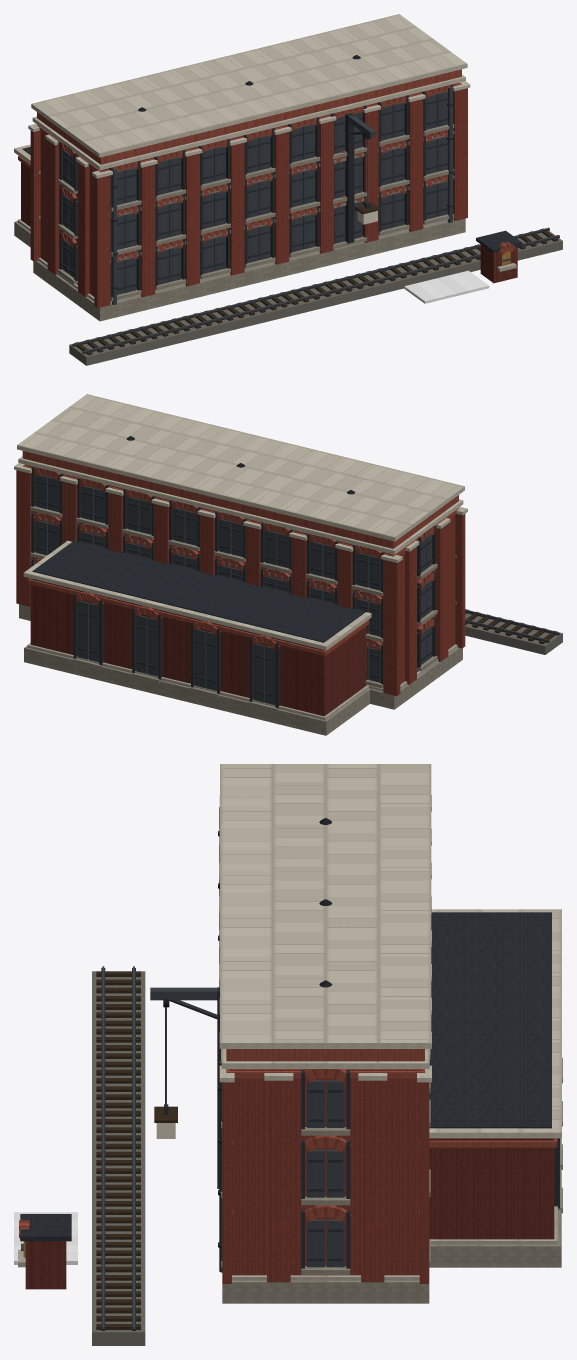
Rendered from fun-2-built.glb.
3 renders of one model, top to bottom at view 1: azimuth 30°, elevation 25°; view 2: azimuth 150°, elevation 25°; view 3: azimuth 270°, elevation 25°, orthographic. The views are drawn at different scales.
Bounding box in the file's own units: 40 × 13.74 × 25.71.
32 materials, 28 textured.
